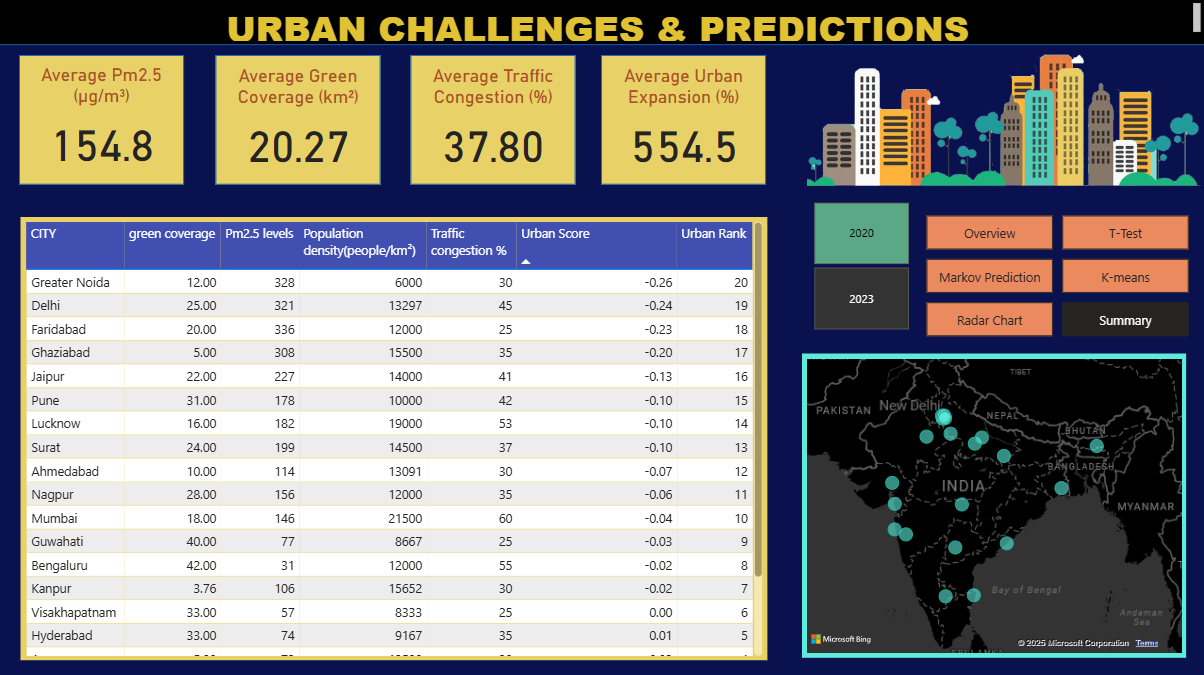

What the dashboard file says about the page in this screenshot:
{"tool":"powerbi","page":{"name":"Summary","canvas":[1280,720],"ordinal":5},"visuals":[{"type":"image","box":[852.5,50,427.5,160],"z":0},{"type":"shape","box":[0,0,1280,50],"z":1000},{"type":"textbox","box":[0,0,1280,50],"z":2000},{"type":"shape","box":[640,60,175,137.5],"z":3000},{"type":"shape","box":[437.5,60,175,137.5],"z":4000},{"type":"shape","box":[230,60,175,137.5],"z":5000},{"type":"shape","box":[22.5,60,175,137.5],"z":6000},{"type":"map","fields":{"Category":["Sheet1.CITY"]},"box":[852.5,377.5,407.5,322.5],"z":7000},{"type":"pageNavigator","box":[984.6,230.6,279.9,128.8],"z":8000},{"type":"card","title":"Average Pm2.5 (µg/m³)","fields":{"Values":["Avg(Sheet1.Pm2.5 levels)"]},"box":[36.6,70,146.3,117.7],"z":9000},{"type":"card","title":"Average Green Coverage (km²)","fields":{"Values":["Avg(Sheet1.green coverage)"]},"box":[245,71.6,146.3,117.7],"z":10000},{"type":"card","title":"Average Traffic Congestion (%)","fields":{"Values":["Avg(Sheet1.Traffic congestion %)"]},"box":[451.7,71.6,146.3,117.7],"z":11000},{"type":"card","title":"Average Urban Expansion (%)","fields":{"Values":["Avg(Sheet1.urban expansion )"]},"box":[653.7,71.6,146.3,117.7],"z":12000},{"type":"tableEx","fields":{"Values":["Sheet1.CITY","Sheet1.green coverage","Sheet1.Pm2.5 levels","Sheet1.Population density(people/km²)","Sheet1.Traffic congestion %","Sheet1.Urban Score","Sheet1.Urban Rank"]},"box":[23.3,231.7,791.7,470],"z":13000},{"type":"slicer","fields":{"Values":["Sheet1.YEAR"]},"box":[840,210,150,148],"z":14000}]}

Visuals, with their boxes in screenshot pixels (x1, y1, x2, y2), scaled from the page's 1280x720 canvas onto the 1204x675 screenshot:
image: [802,47,1203,197]
shape: [0,0,1203,47]
textbox: [0,0,1203,47]
shape: [602,56,767,185]
shape: [412,56,576,185]
shape: [216,56,381,185]
shape: [21,56,186,185]
map - Sheet1.CITY: [802,354,1185,656]
pageNavigator: [926,216,1189,337]
"Average Pm2.5 (µg/m³)" card: [34,66,172,176]
"Average Green Coverage (km²)" card: [230,67,368,177]
"Average Traffic Congestion (%)" card: [425,67,562,177]
"Average Urban Expansion (%)" card: [615,67,752,177]
tableEx - Sheet1.CITY x Sheet1.green coverage: [22,217,767,658]
slicer - Sheet1.YEAR: [790,197,931,336]
